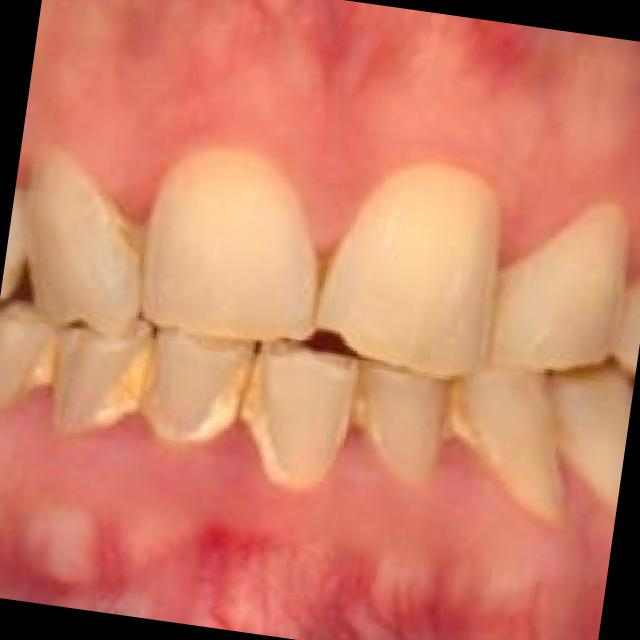karies: (198, 356, 268, 441), (101, 340, 160, 423), (102, 208, 165, 280), (330, 363, 388, 438), (430, 372, 485, 446), (303, 232, 346, 299), (25, 332, 64, 392)
